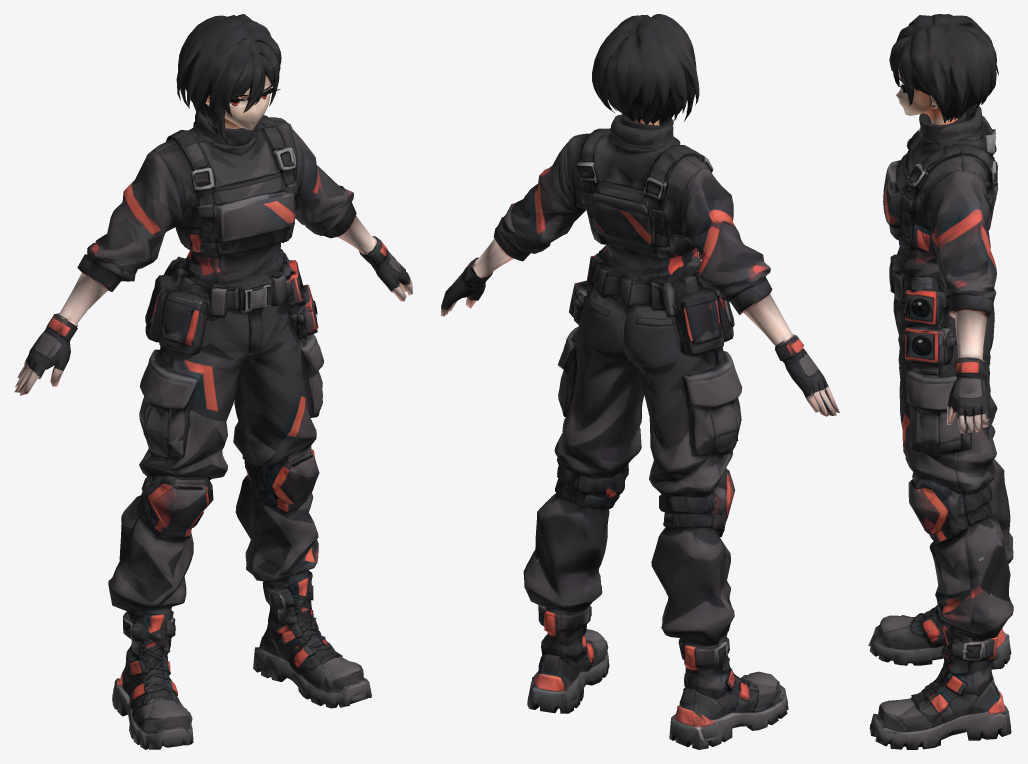
The model's file is Valkyre.glb.
The picture shows the model from 3 angles, left to right: view 1: azimuth 30°, elevation 25°; view 2: azimuth 150°, elevation 25°; view 3: azimuth 270°, elevation 25°; orthographic projection.
Parts seen in each view (by area): view 1: tripo_part_0, tripo_part_1, tripo_part_4, Valkyre_Head, tripo_part_3; view 2: tripo_part_0, tripo_part_1, tripo_part_4, Valkyre_Head, tripo_part_3; view 3: tripo_part_0, tripo_part_1, tripo_part_3, Valkyre_Head.
Part boxes in pixels (<box>): tripo_part_0: <box>108,303,371,749</box>; tripo_part_1: <box>145,111,318,360</box>; tripo_part_4: <box>14,151,183,395</box>; Valkyre_Head: <box>176,14,281,144</box>; tripo_part_3: <box>288,123,412,301</box>; tripo_part_0: <box>523,287,788,749</box>; tripo_part_1: <box>566,115,734,355</box>; tripo_part_4: <box>680,169,839,416</box>; Valkyre_Head: <box>592,14,699,146</box>; tripo_part_3: <box>441,141,585,316</box>; tripo_part_0: <box>868,301,1013,749</box>; tripo_part_1: <box>883,105,998,370</box>; tripo_part_3: <box>927,172,996,433</box>; Valkyre_Head: <box>889,14,998,147</box>.
Size of the model in its own units: 0.5819 by 0.9725 by 0.188.
5 materials, 5 textured.
